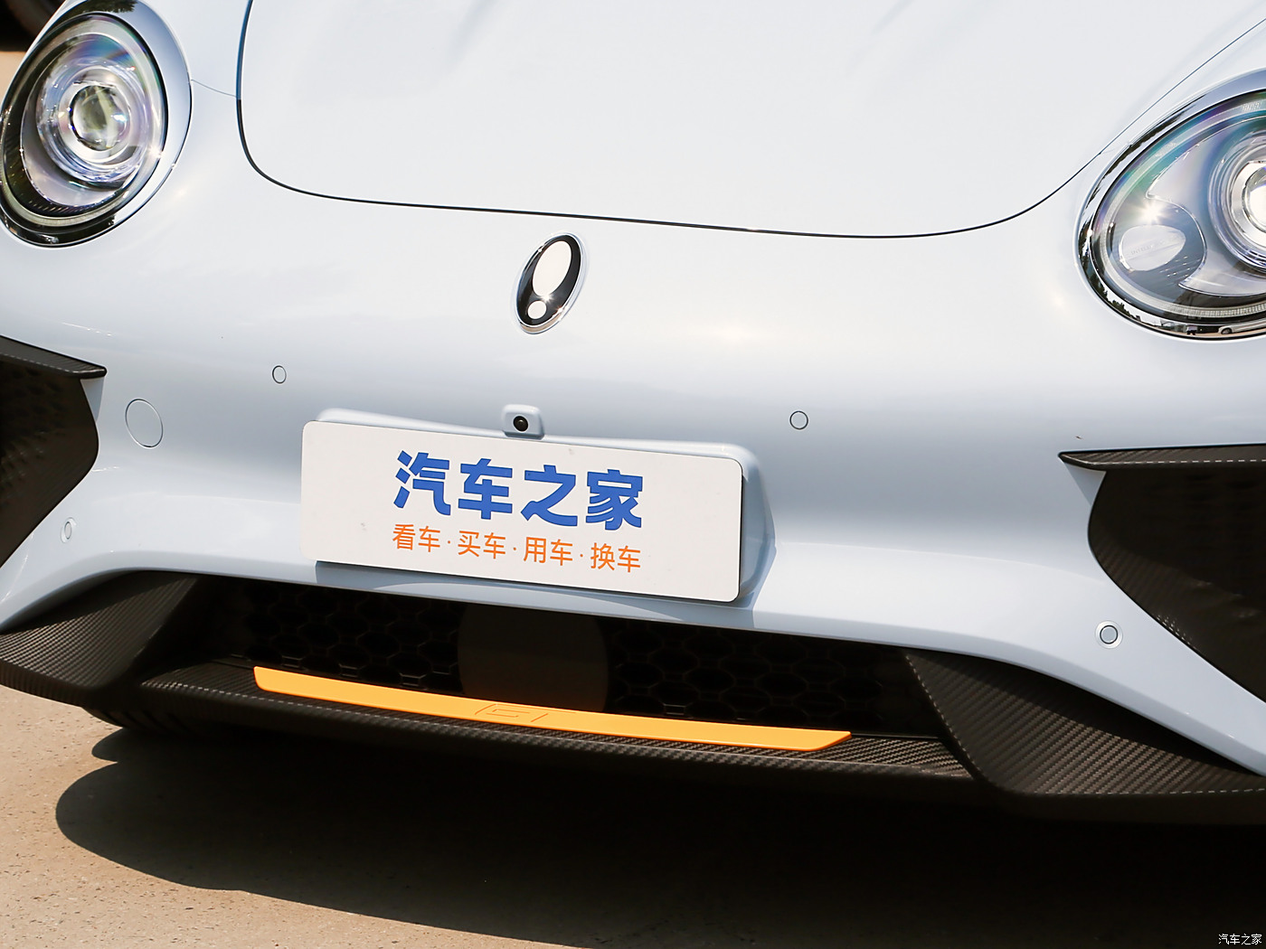ORA: (515, 234, 584, 334)
